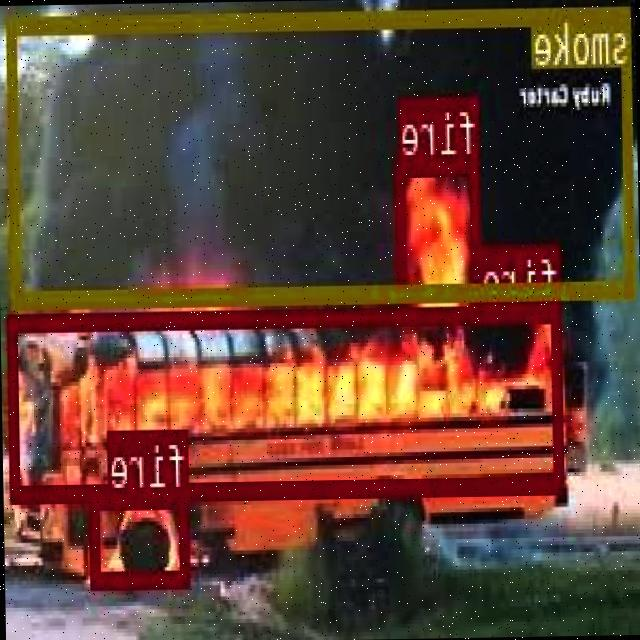fire: (8, 303, 564, 498), (397, 157, 482, 322), (91, 489, 192, 584)
smoke: (9, 3, 637, 303)
